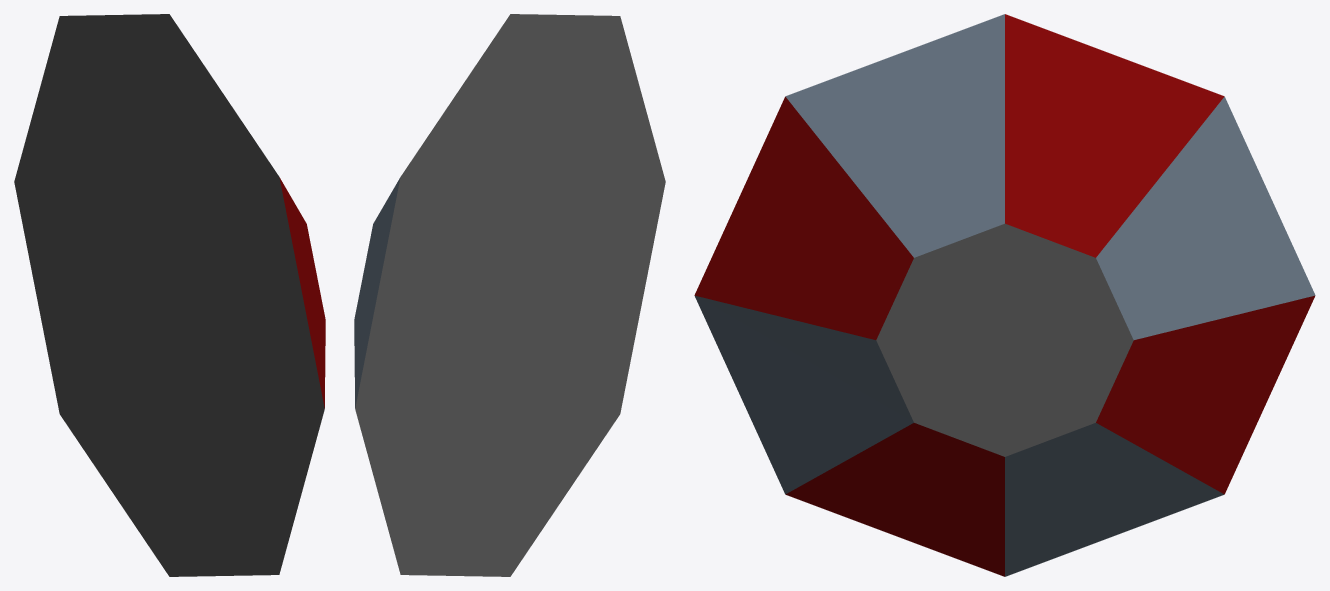
File: thargoid.obj
3 renders of one model, left to right at view 1: azimuth 30°, elevation 25°; view 2: azimuth 150°, elevation 25°; view 3: azimuth 270°, elevation 25°, orthographic.
Bounding box in the file's own units: 56 × 328 × 328.
